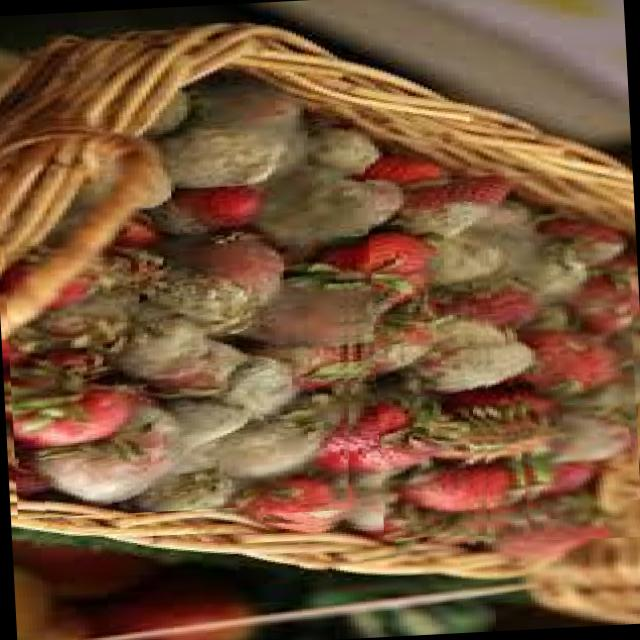Organic: (0, 102, 368, 519), (364, 149, 504, 542), (492, 216, 640, 544), (260, 508, 382, 534)
